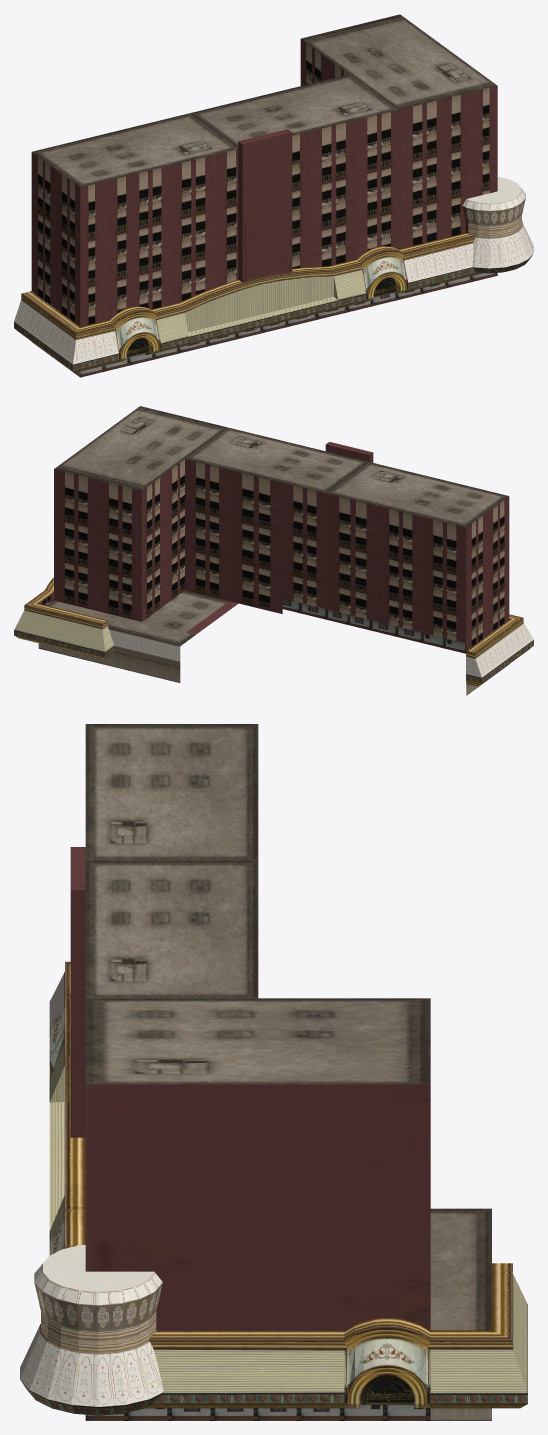
The model's file is vegastemp1.obj.
3 renders of one model, top to bottom at view 1: azimuth 30°, elevation 25°; view 2: azimuth 150°, elevation 25°; view 3: azimuth 270°, elevation 25°, orthographic. The views are drawn at different scales.
Parts seen in each view (by area): view 1: vegastemp1; view 2: vegastemp1; view 3: vegastemp1.
Part boxes in pixels (<box>): vegastemp1: <box>14,14,533,377</box>; vegastemp1: <box>14,406,533,695</box>; vegastemp1: <box>20,724,527,1420</box>.
Size of the model in its own units: 148 by 59.73 by 78.56.
10 materials, 10 textured.
